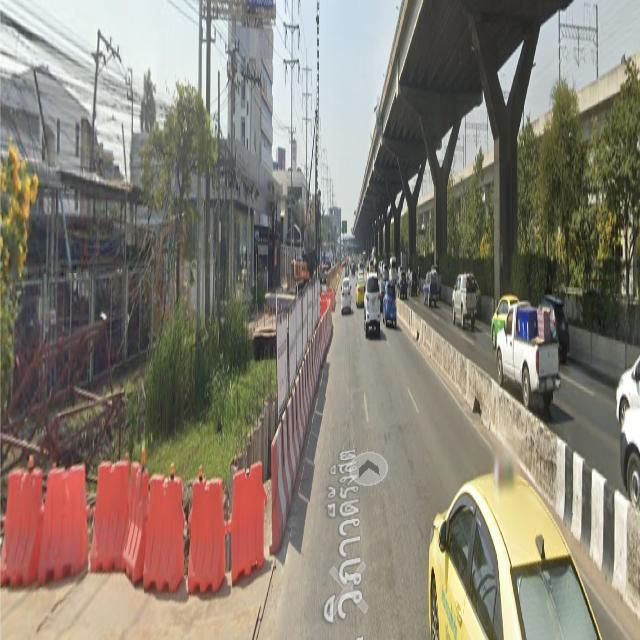fallen_object: (77, 440, 188, 608), (0, 450, 103, 585), (165, 480, 272, 587), (239, 373, 301, 531), (287, 292, 358, 428)
